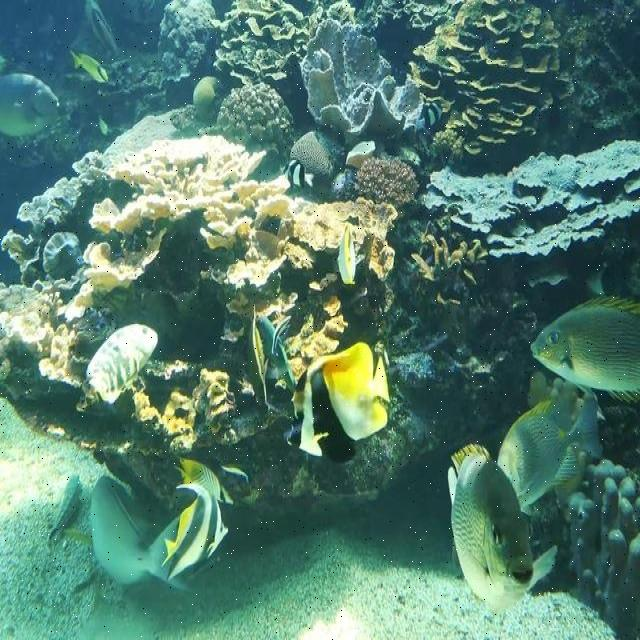fish: (448, 444, 561, 611), (283, 338, 395, 462), (496, 393, 606, 514), (87, 474, 185, 591), (529, 294, 629, 401), (82, 321, 161, 409), (163, 483, 228, 583), (282, 158, 315, 191)
reefs: (71, 125, 400, 321)
